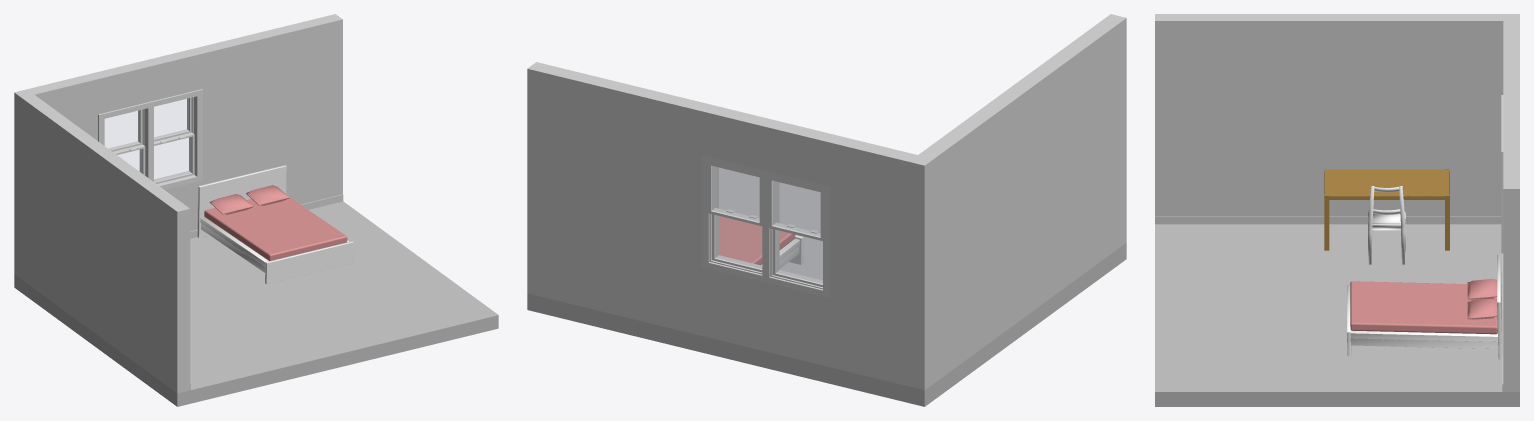
The model's file is L14_W16_furniture2_circulation3.glb.
The picture shows the model from 3 angles, left to right: view 1: azimuth 30°, elevation 25°; view 2: azimuth 150°, elevation 25°; view 3: azimuth 270°, elevation 25°; orthographic projection. The views are drawn at different scales.
Size of the model in its own units: 200 by 116 by 176.
